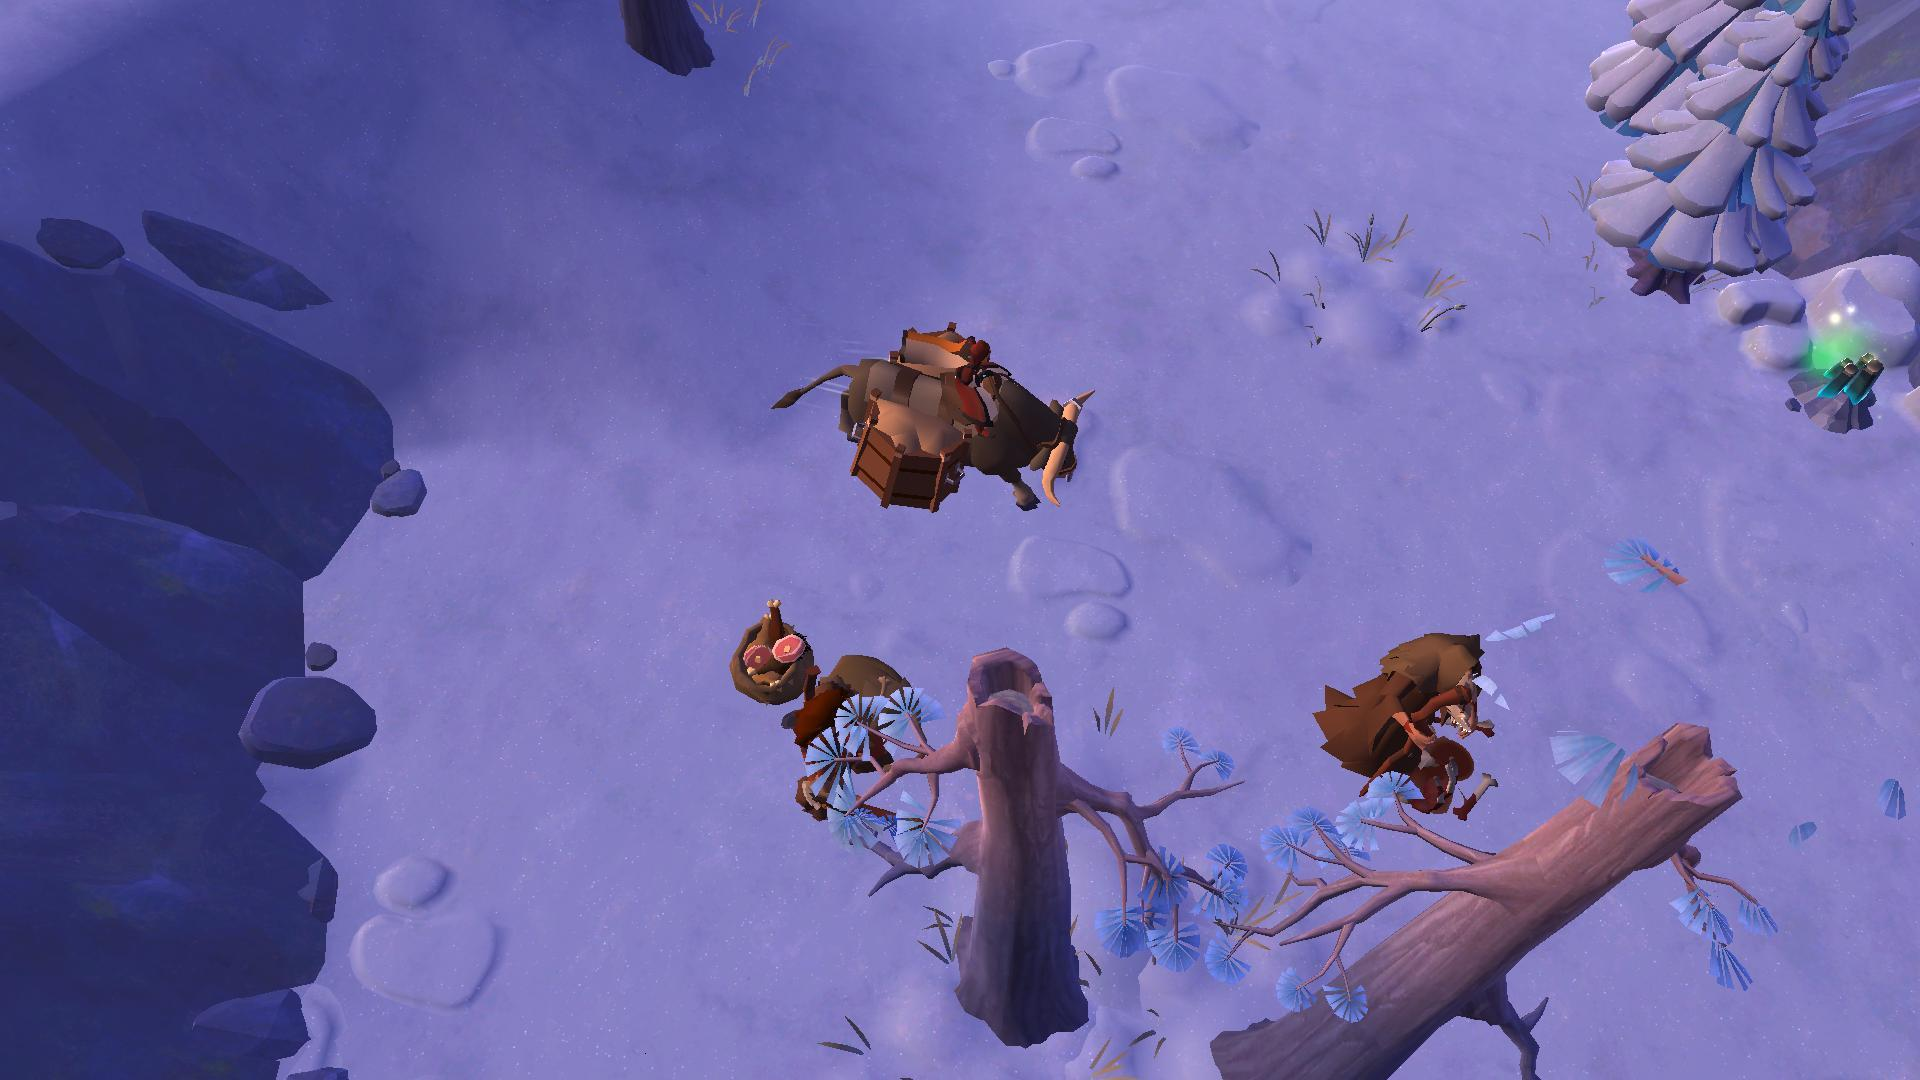enemy_factionKeeper: (1327, 604, 1489, 800)
ore_t4: (1820, 352, 1880, 410)
